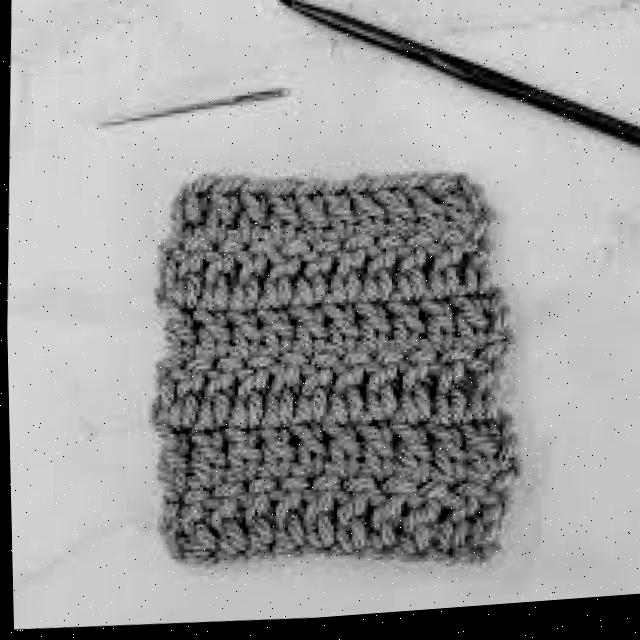ch: (449, 550, 496, 576), (356, 552, 395, 572), (392, 551, 424, 574), (323, 551, 366, 568), (418, 558, 455, 577), (180, 559, 218, 576), (296, 551, 325, 569), (266, 554, 303, 567), (239, 558, 273, 572), (216, 557, 245, 572)
dc: (394, 485, 450, 562), (432, 477, 484, 559), (366, 470, 414, 556), (295, 233, 341, 316), (327, 478, 376, 553), (328, 239, 373, 319), (165, 232, 209, 311), (469, 478, 511, 556), (205, 181, 251, 247), (426, 409, 463, 491), (404, 182, 449, 249), (302, 476, 339, 557), (226, 299, 262, 380), (233, 483, 274, 554), (197, 365, 239, 434), (446, 288, 485, 362), (173, 178, 217, 243), (432, 182, 476, 247), (390, 417, 428, 492), (353, 296, 392, 369), (361, 242, 401, 313), (327, 359, 364, 434), (286, 296, 323, 371), (427, 362, 465, 435), (186, 420, 223, 494), (320, 294, 357, 368), (459, 415, 497, 487), (230, 364, 268, 435), (231, 240, 266, 317), (372, 182, 414, 246), (346, 185, 387, 250), (256, 298, 293, 370), (320, 413, 357, 484), (385, 299, 424, 366), (205, 488, 243, 556), (293, 362, 331, 430), (264, 242, 298, 318), (266, 359, 301, 431), (268, 484, 305, 552), (417, 294, 455, 360), (465, 368, 505, 430), (223, 416, 258, 485), (288, 421, 324, 488), (166, 370, 203, 435), (157, 431, 191, 501), (194, 301, 227, 372), (428, 237, 461, 308), (396, 359, 428, 432), (396, 237, 427, 312), (356, 417, 389, 487), (265, 189, 300, 253), (203, 242, 233, 316), (258, 420, 292, 485), (366, 364, 397, 435), (180, 492, 214, 556), (323, 188, 357, 250), (161, 312, 194, 375), (461, 237, 491, 303), (235, 189, 272, 241), (297, 189, 326, 250)
